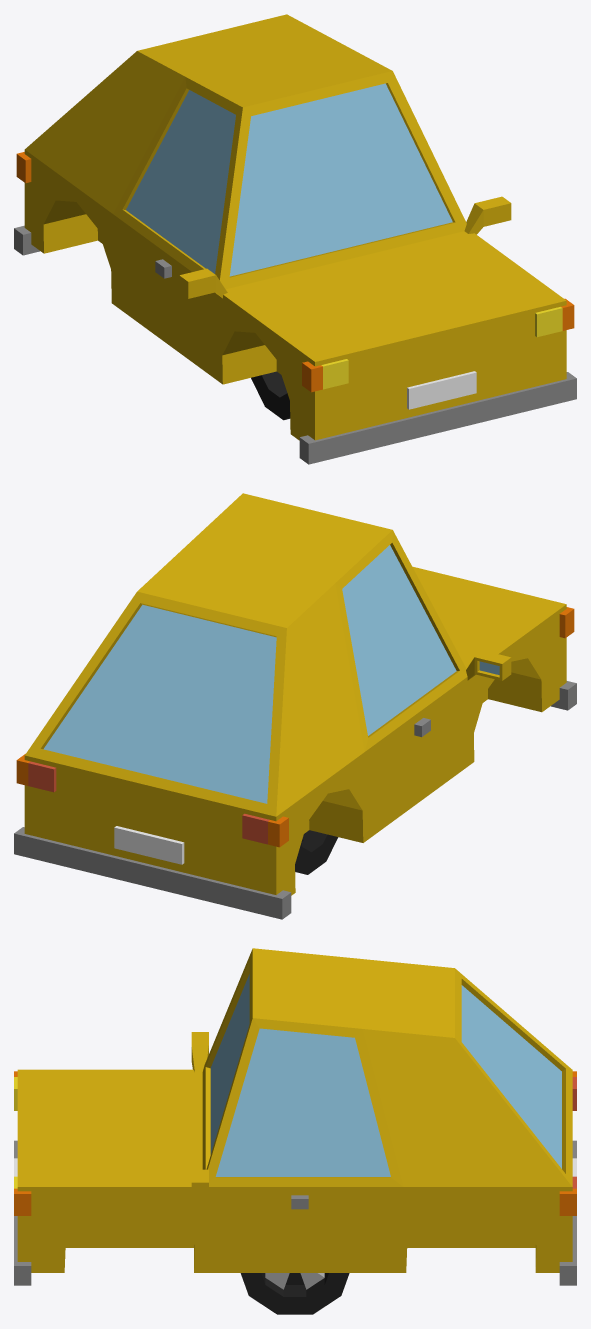
Rendered from YellowCar.fbx.
The picture shows the model from 3 angles, top to bottom: view 1: azimuth 30°, elevation 25°; view 2: azimuth 150°, elevation 25°; view 3: azimuth 270°, elevation 25°; orthographic projection. The views are drawn at different scales.
Visible parts, largest first — view 1: Cube, Wheel; view 2: Cube, Wheel; view 3: Cube, Wheel.
Boxes of the visible parts, x1,y1,x2,y2 form: Cube: (14,14,576,464); Wheel: (251,371,290,420); Cube: (14,493,576,919); Wheel: (295,830,338,874); Cube: (14,948,576,1285); Wheel: (240,1273,349,1314).
Bounding box in the file's own units: 257 × 255 × 406.
